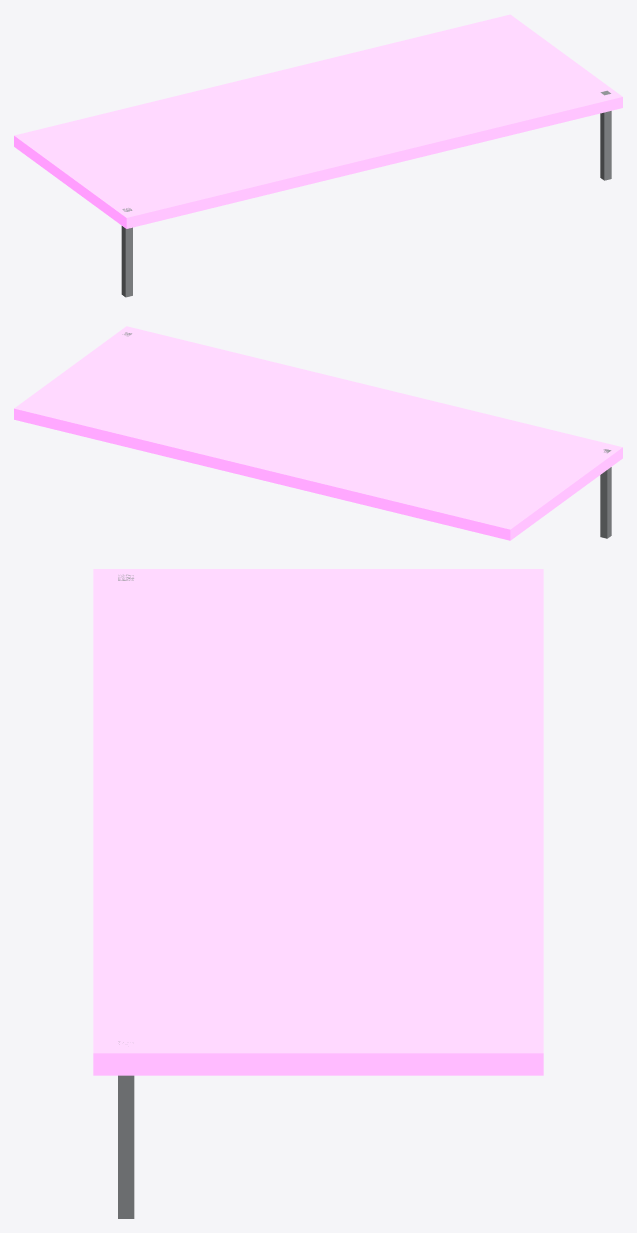
File: b-awning.glb
3 views of the same model, one above another, from view 1: azimuth 30°, elevation 25°; view 2: azimuth 150°, elevation 25°; view 3: azimuth 270°, elevation 25° (orthographic). The views are drawn at different scales.
Visible parts, largest first — view 1: b-awning; view 2: b-awning; view 3: b-awning.
Part boxes in pixels (box(x1,y1,x2,y2)): b-awning: box(14, 14, 622, 297); b-awning: box(14, 326, 622, 540); b-awning: box(93, 569, 543, 1218).
Bounding box in the file's own units: 2.8 × 0.46 × 1.1.
